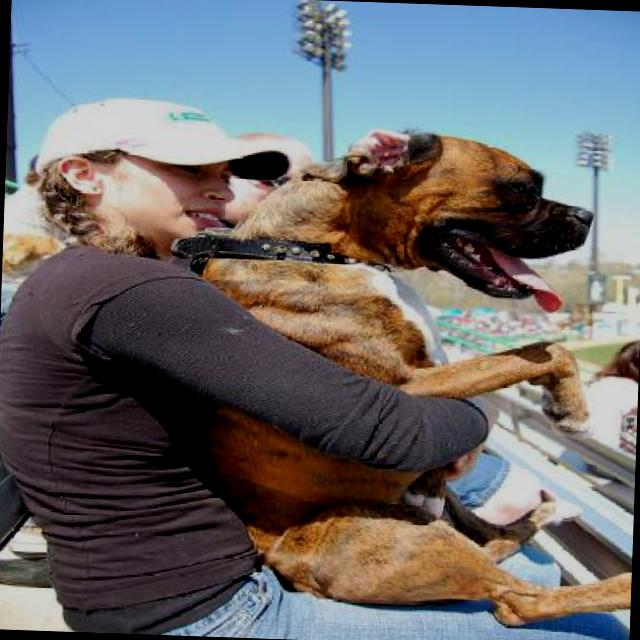Person: (0, 93, 640, 640), (585, 336, 638, 453)
